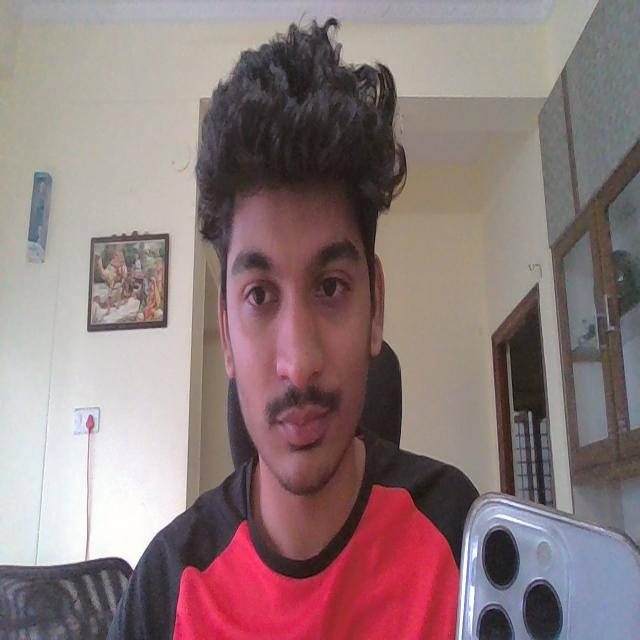phone: (456, 491, 639, 640)
